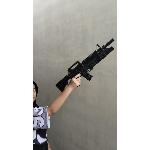Senapan: (56, 37, 117, 97)
